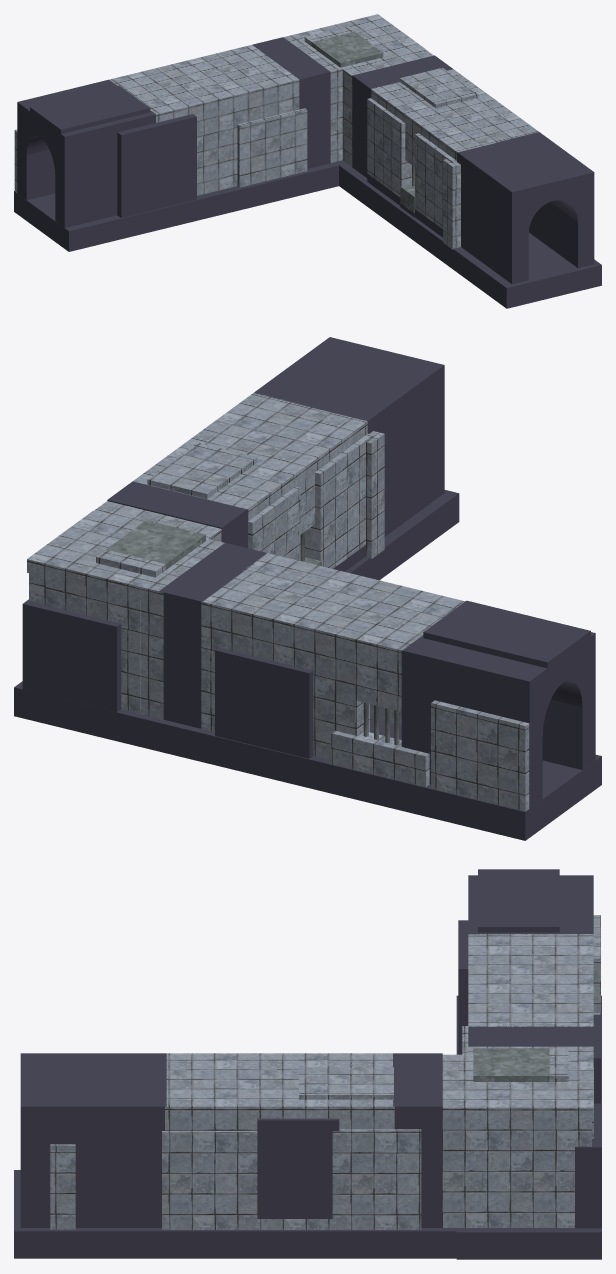
File: RightHallwayWithWindows.fbx
The picture shows the model from 3 angles, top to bottom: view 1: azimuth 30°, elevation 25°; view 2: azimuth 150°, elevation 25°; view 3: azimuth 270°, elevation 25°; orthographic projection. The views are drawn at different scales.
Parts seen in each view (by area): view 1: block_gate% (×7), block (×12); view 2: block (×14), block_gate% (×7); view 3: block (×24), block_gate% (×7).
Part boxes in pixels (x1,y1,x2,y2): block_gate% (×7): (17, 37, 594, 284); block (×12): (14, 14, 601, 308); block (×14): (14, 434, 601, 840); block_gate% (×7): (107, 337, 595, 808); block (×24): (14, 869, 601, 1259); block_gate% (×7): (20, 875, 593, 1227).
Bounding box in the file's own units: 61.55 × 18.65 × 64.67.
